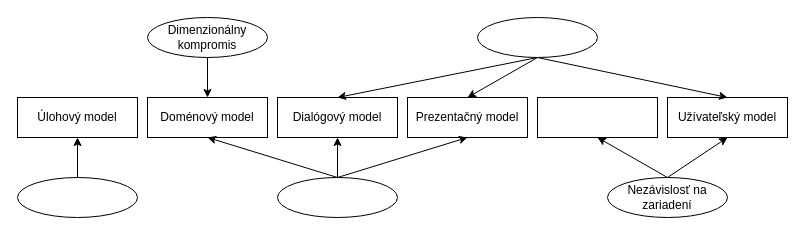
This 805x235 diagram has some shape labels left out. Here are the shapes that lost their labels. From the top down, the centre of each, then its label:
At (x=537, y=37): "Prevencia sémantickej straty".
At (x=597, y=117): "Platformový model".
At (x=77, y=197): "Adekvátnosť úloh".
At (x=337, y=197): "Rovnosť správania".
